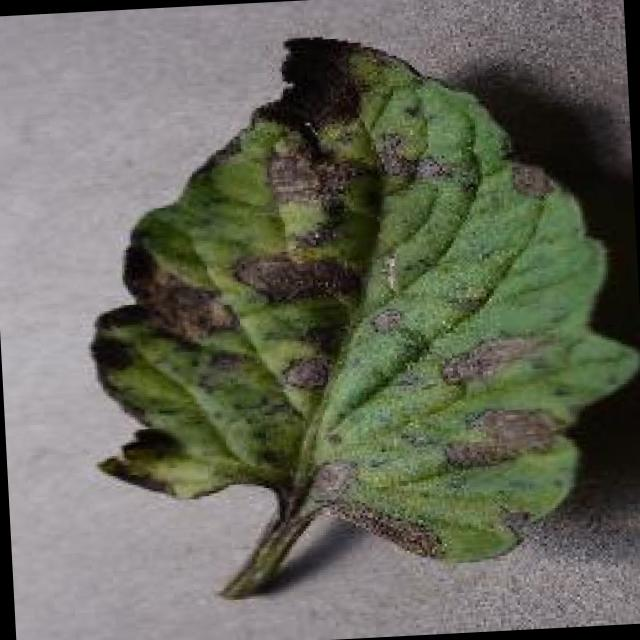Tomato_Early_Blight: (84, 9, 640, 589)
